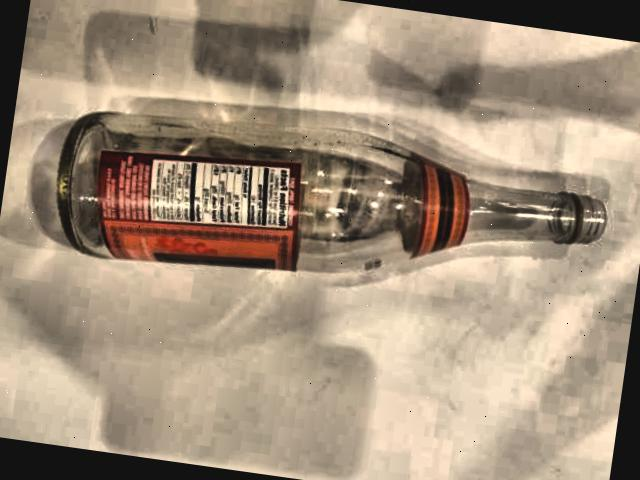Bottles: (0, 51, 619, 364)
